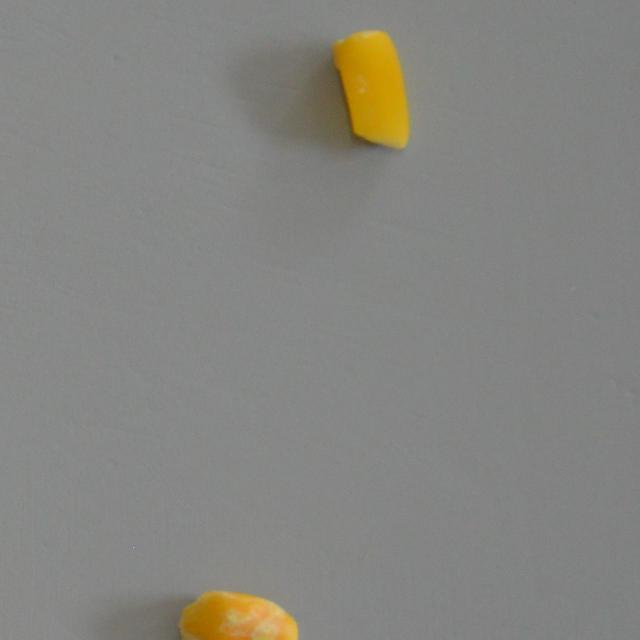estandar: (336, 26, 418, 150)
pelicula: (174, 575, 302, 640)
